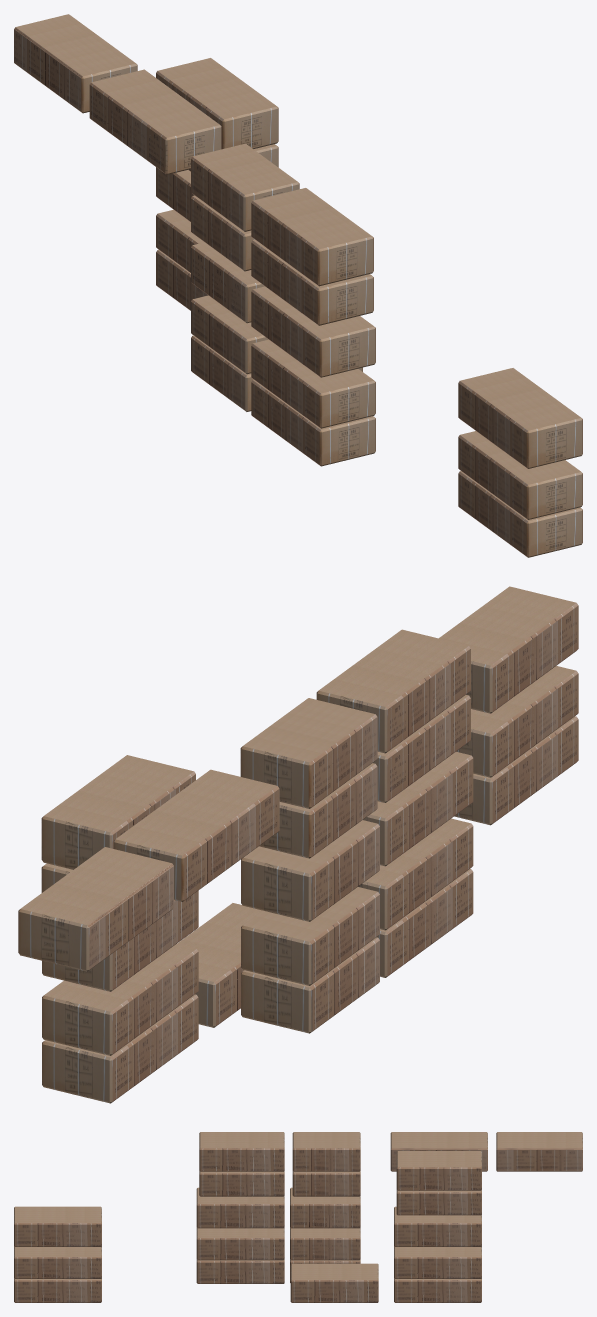
File: xiexingju.FBX
3 views of the same model, one above another, from view 1: azimuth 30°, elevation 25°; view 2: azimuth 150°, elevation 25°; view 3: azimuth 270°, elevation 25° (orthographic). The views are drawn at different scales.
Parts seen in each view (by area): view 1: Box9101, Box9089, Box9097, 对象27, 对象28; view 2: Box9101, Box9097, Box9089, 对象28, 对象27; view 3: Box9101, Box9089, Box9097, 对象28, 对象27.
Part boxes in pixels (left/top/right/bottom): Box9101: left=156, top=58, right=582, bottom=557; Box9089: left=251, top=188, right=375, bottom=466; Box9097: left=191, top=143, right=299, bottom=411; 对象27: left=89, top=69, right=221, bottom=174; 对象28: left=14, top=14, right=137, bottom=113; Box9101: left=41, top=586, right=578, bottom=1103; Box9097: left=240, top=698, right=379, bottom=1033; Box9089: left=316, top=629, right=473, bottom=977; 对象28: left=18, top=847, right=173, bottom=971; 对象27: left=113, top=769, right=279, bottom=901; Box9101: left=14, top=1151, right=481, bottom=1302; Box9089: left=196, top=1132, right=284, bottom=1283; Box9097: left=290, top=1132, right=360, bottom=1282; 对象28: left=496, top=1132, right=582, bottom=1171; 对象27: left=390, top=1132, right=487, bottom=1171.
Size of the model in its own units: 1.54 by 10.24 by 2.69.
